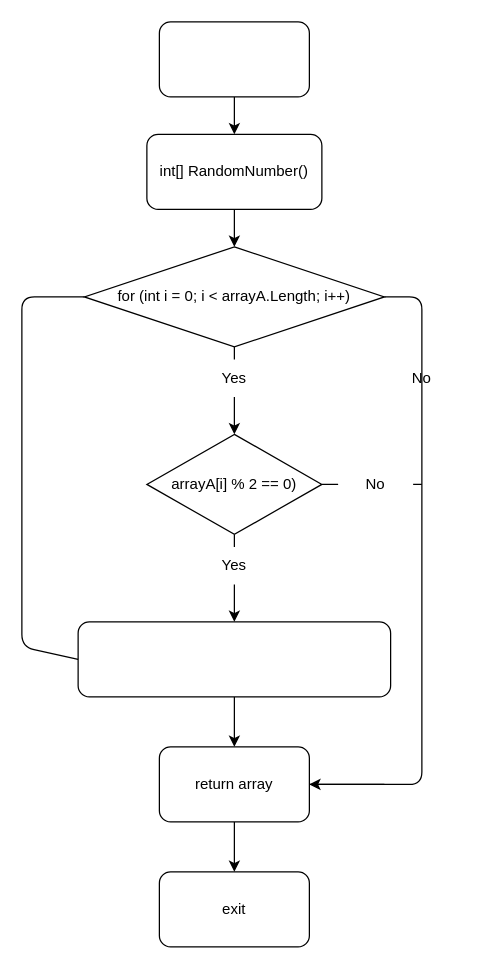
Some shapes in this 481 by 969 pixel diagram are drawn without their labels. Here are the shapes that lost their labels. From the top down, the box of each, then its label:
(158, 21, 309, 97): start
(77, 621, 391, 697): arrayB[count] = arrayA[i] count++
